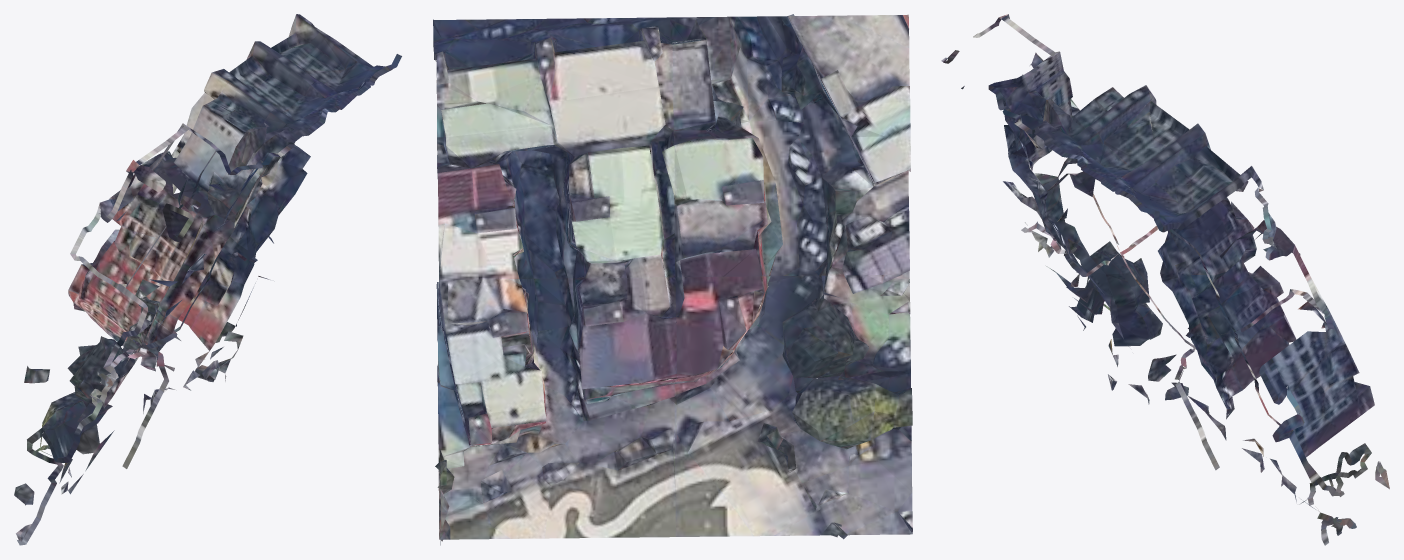
The picture shows the model from 3 angles, left to right: view 1: azimuth 30°, elevation 25°; view 2: azimuth 150°, elevation 25°; view 3: azimuth 270°, elevation 25°; orthographic projection. The views are drawn at different scales.
Size of the model in its own units: 77.73 by 75.15 by 74.42.
1 material, 1 textured.
